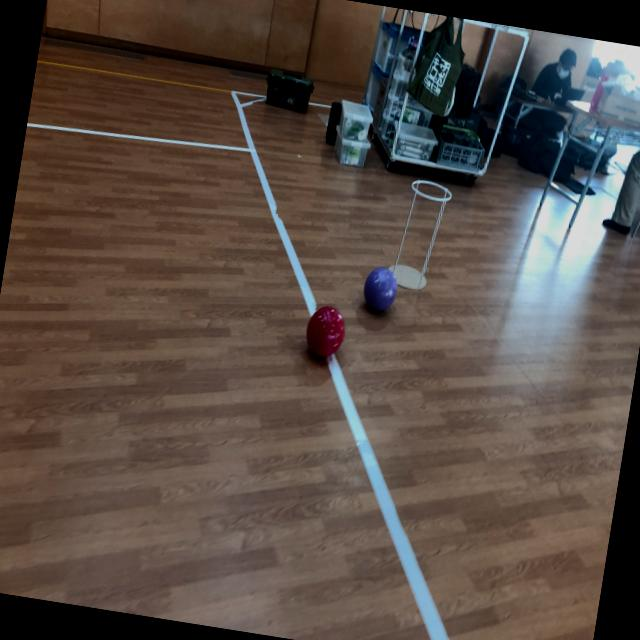purple_ball: (359, 264, 402, 314)
red_ball: (304, 302, 349, 359)
